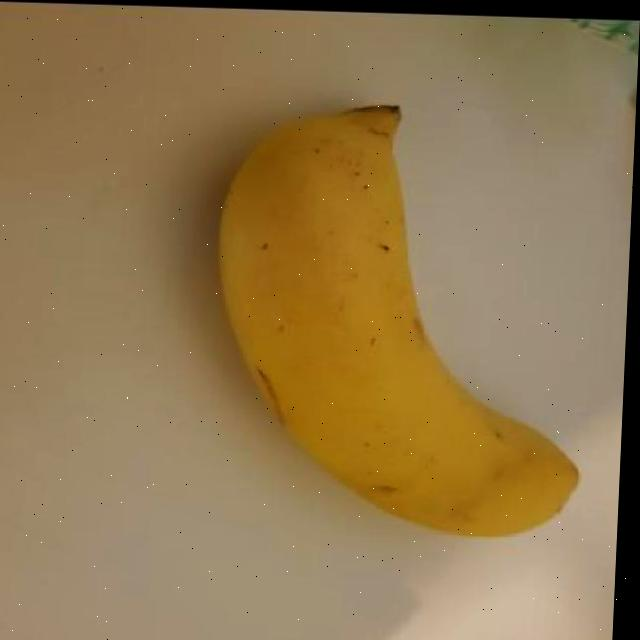banana: (194, 94, 607, 546)
